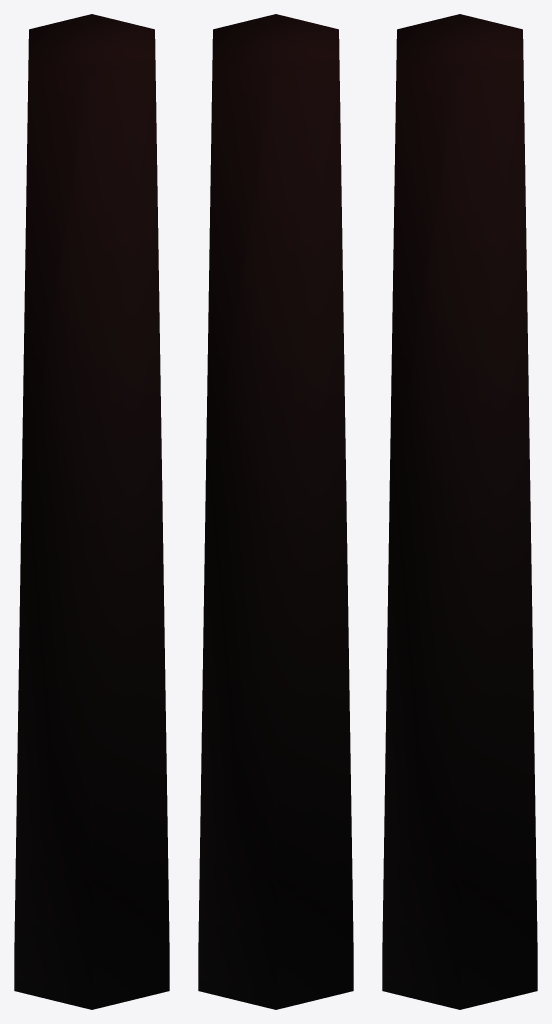
The model's file is banana_b_mid.glb.
3 renders of one model, left to right at view 1: azimuth 30°, elevation 25°; view 2: azimuth 150°, elevation 25°; view 3: azimuth 270°, elevation 25°, orthographic.
Visible parts, largest first — view 1: banana_b_mid; view 2: banana_b_mid; view 3: banana_b_mid.
Boxes of the visible parts, <box> form: banana_b_mid: <box>14,14,169,1009</box>; banana_b_mid: <box>198,14,353,1009</box>; banana_b_mid: <box>382,14,537,1009</box>.
Bounding box in the file's own units: 0.1362 × 0.7767 × 0.1179.
Materials: 1 (1 with a texture image).
